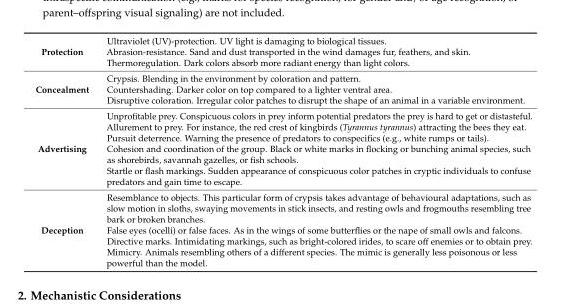table: (34, 34, 531, 267)
table column: (96, 34, 531, 267), (34, 34, 96, 267)
table row: (34, 107, 531, 188), (34, 188, 531, 267), (34, 69, 531, 107), (34, 34, 531, 69)
